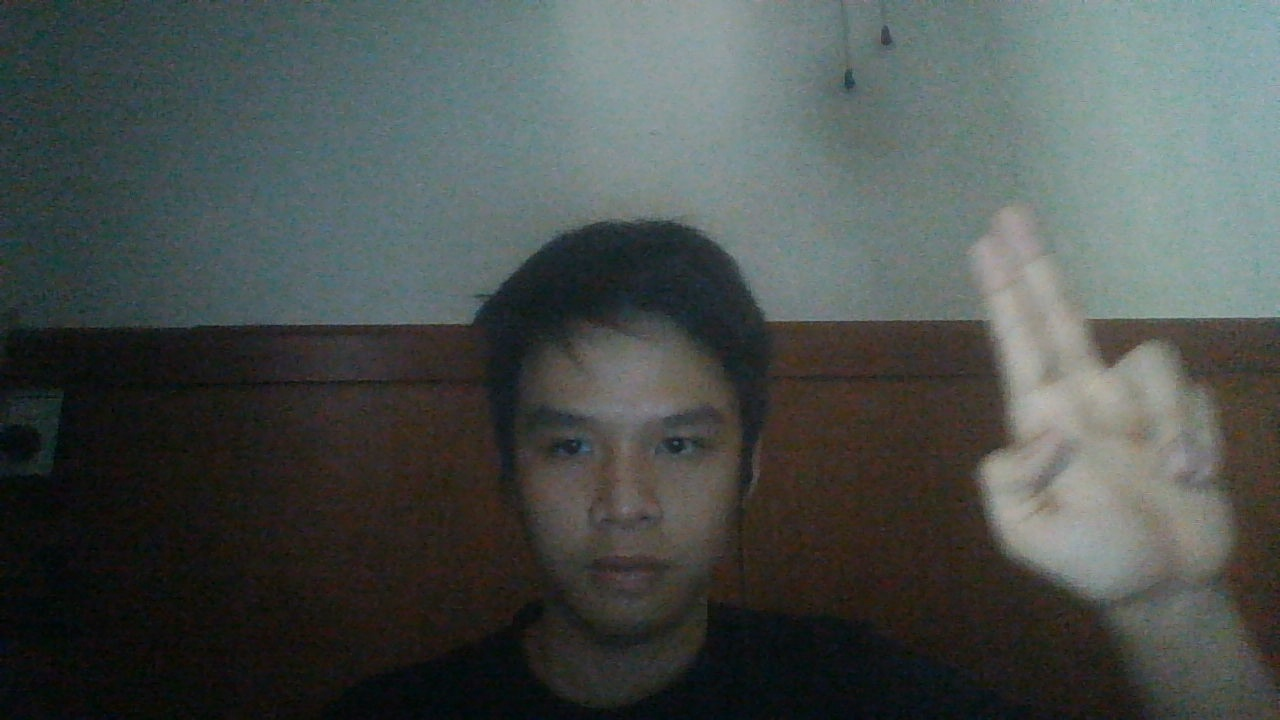write1: (966, 200, 1240, 600)
